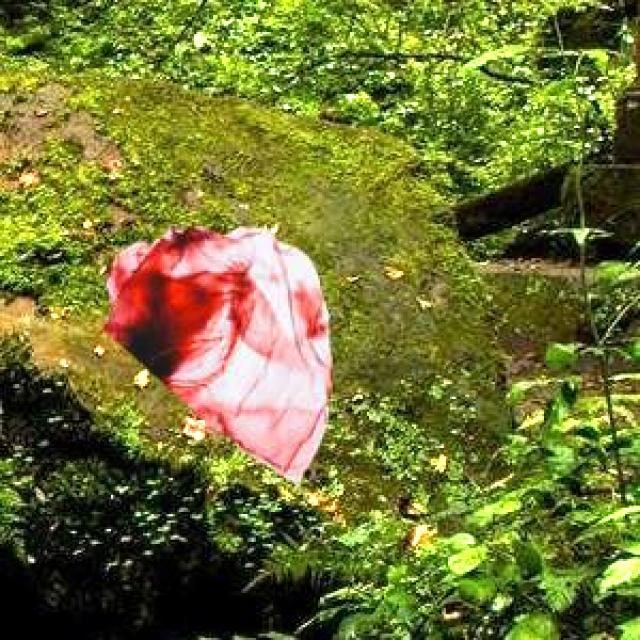Plastic_Bag: (99, 223, 330, 481)
